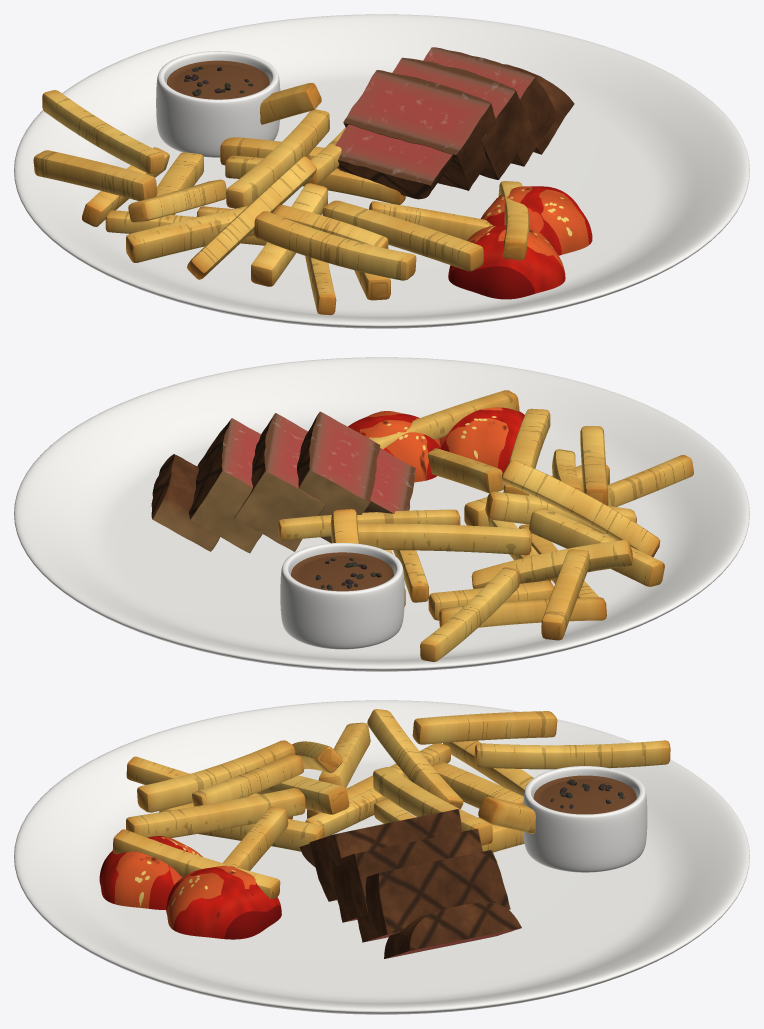
File: striploin-fries.glb
3 views of the same model, one above another, from view 1: azimuth 30°, elevation 25°; view 2: azimuth 150°, elevation 25°; view 3: azimuth 270°, elevation 25° (orthographic).
Parts seen in each view (by area): view 1: base, fries, striploin, grilled-tomato, pepper-sauce; view 2: base, fries, striploin, grilled-tomato, pepper-sauce; view 3: base, fries, striploin, grilled-tomato, pepper-sauce.
Boxes of the visible parts, x1=… form: base: x1=14, y1=14, x2=749, y2=328; fries: x1=33, y1=83, x2=529, y2=315; striploin: x1=335, y1=47, x2=574, y2=199; grilled-tomato: x1=448, y1=186, x2=592, y2=299; pepper-sauce: x1=167, y1=60, x2=269, y2=99; base: x1=14, y1=357, x2=749, y2=671; fries: x1=278, y1=390, x2=693, y2=661; striploin: x1=151, y1=411, x2=415, y2=553; grilled-tomato: x1=348, y1=407, x2=524, y2=482; pepper-sauce: x1=291, y1=552, x2=393, y2=591; base: x1=14, y1=700, x2=749, y2=1014; fries: x1=112, y1=709, x2=670, y2=899; striploin: x1=299, y1=809, x2=521, y2=958; grilled-tomato: x1=99, y1=836, x2=281, y2=939; pepper-sauce: x1=533, y1=775, x2=636, y2=814.
Bounding box in the file's own units: 0.3079 × 0.0514 × 0.3079.
Materials: 7 (3 with a texture image).
